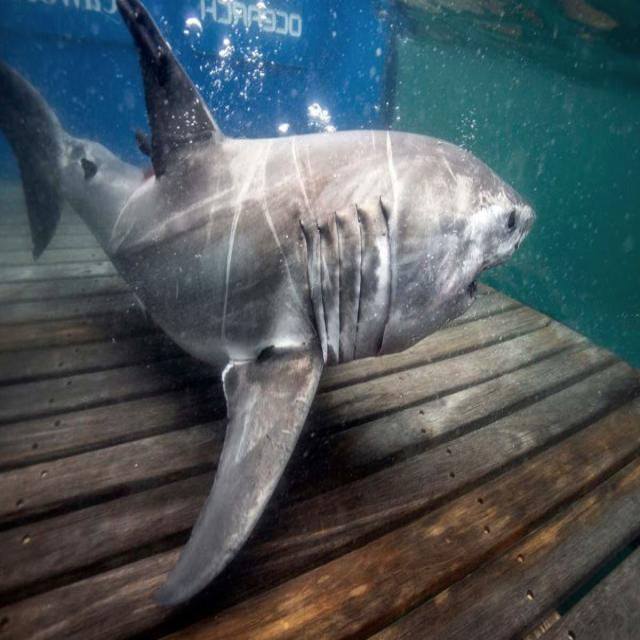shark: (1, 0, 534, 604)
